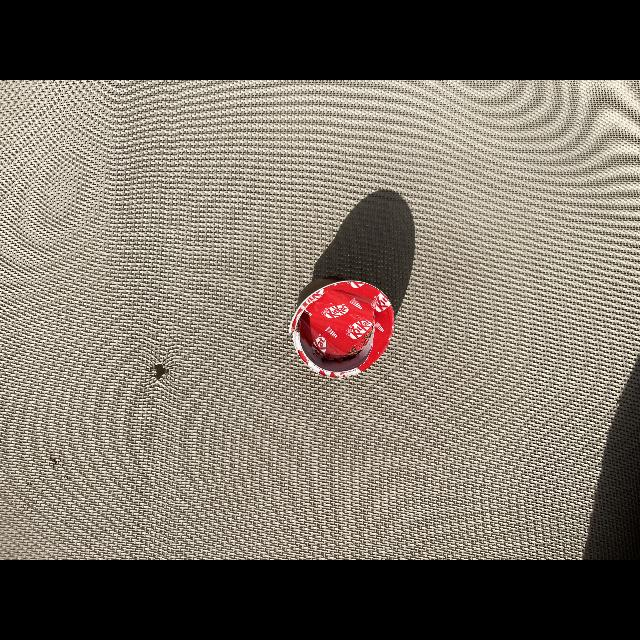damaged_capsule: (288, 272, 402, 382)
